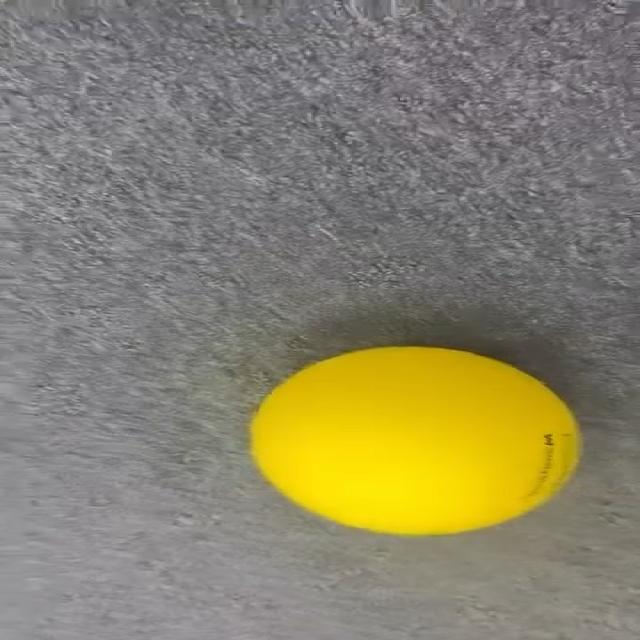Fuels: (254, 347, 574, 531)
